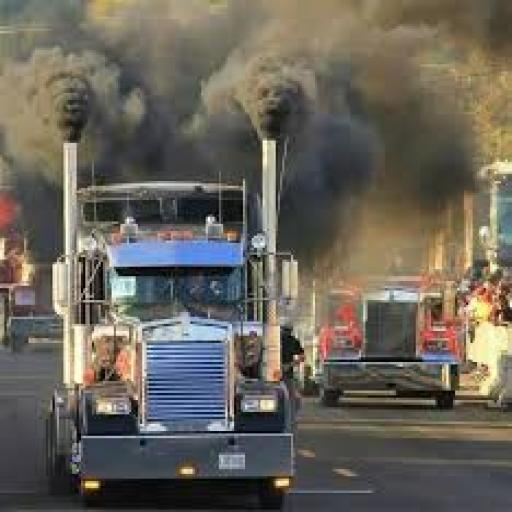smoke: (28, 2, 470, 152), (276, 81, 380, 252)
